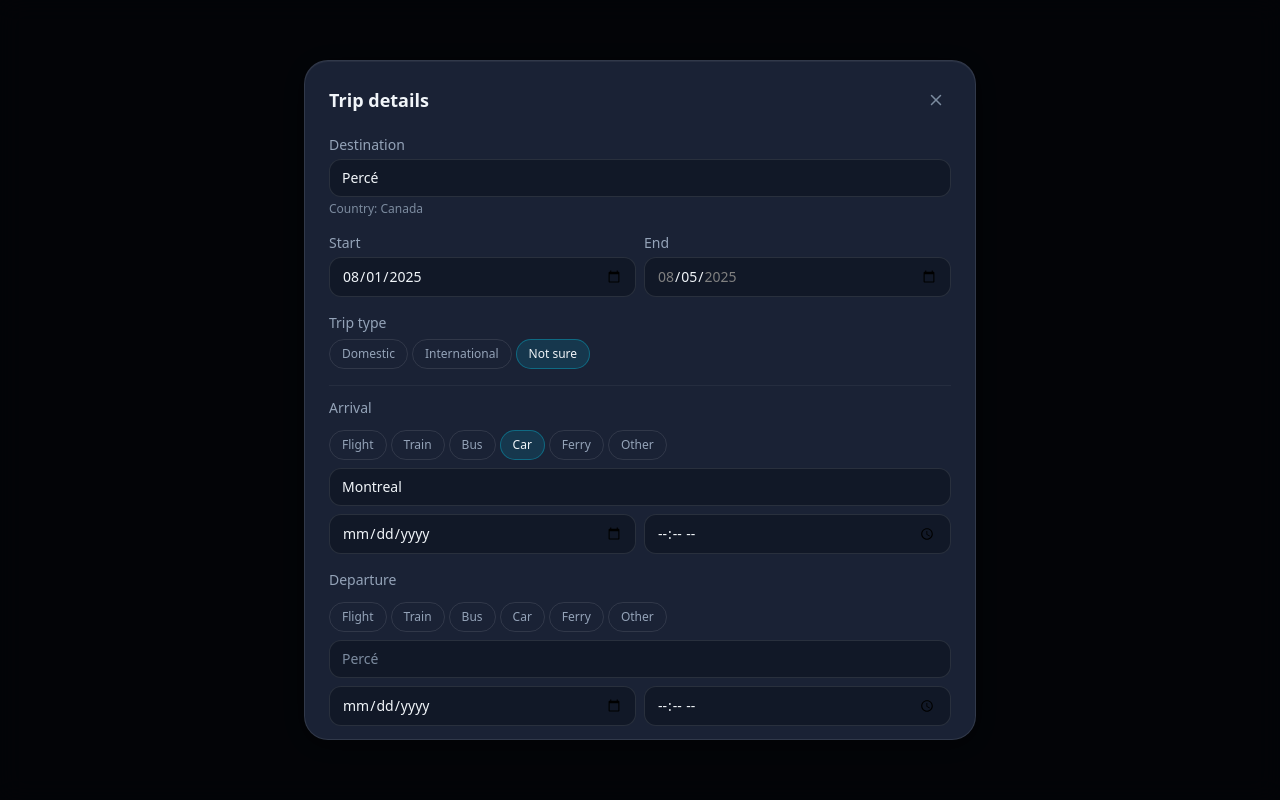
Scenario: the country cannot go stale › refuses a destination that is not one
Replace the text in the field with test id "td-destination" with "12345" at (640, 178), box x1=329 y1=159 x2=951 y2=197
(page scrolled)
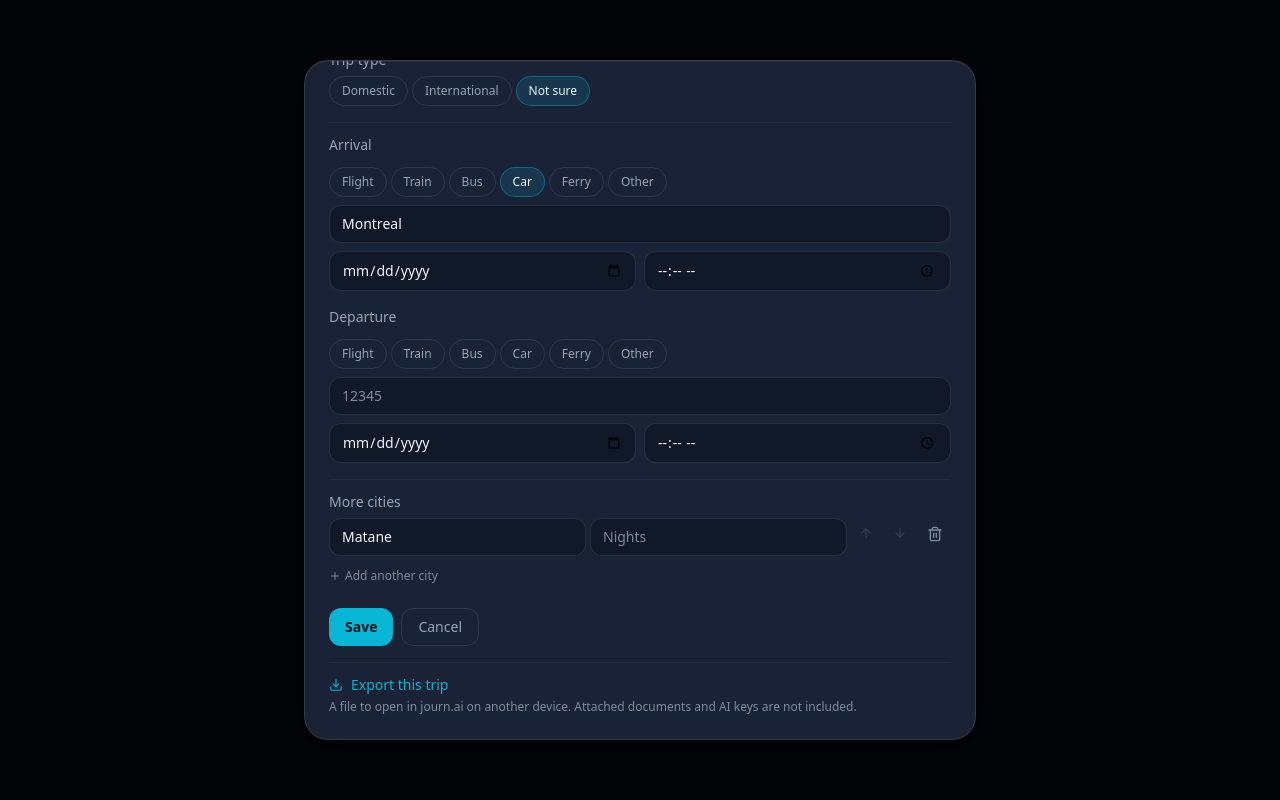
Click the button with test id "td-save".
click(361, 627)  # box x1=329 y1=608 x2=393 y2=646
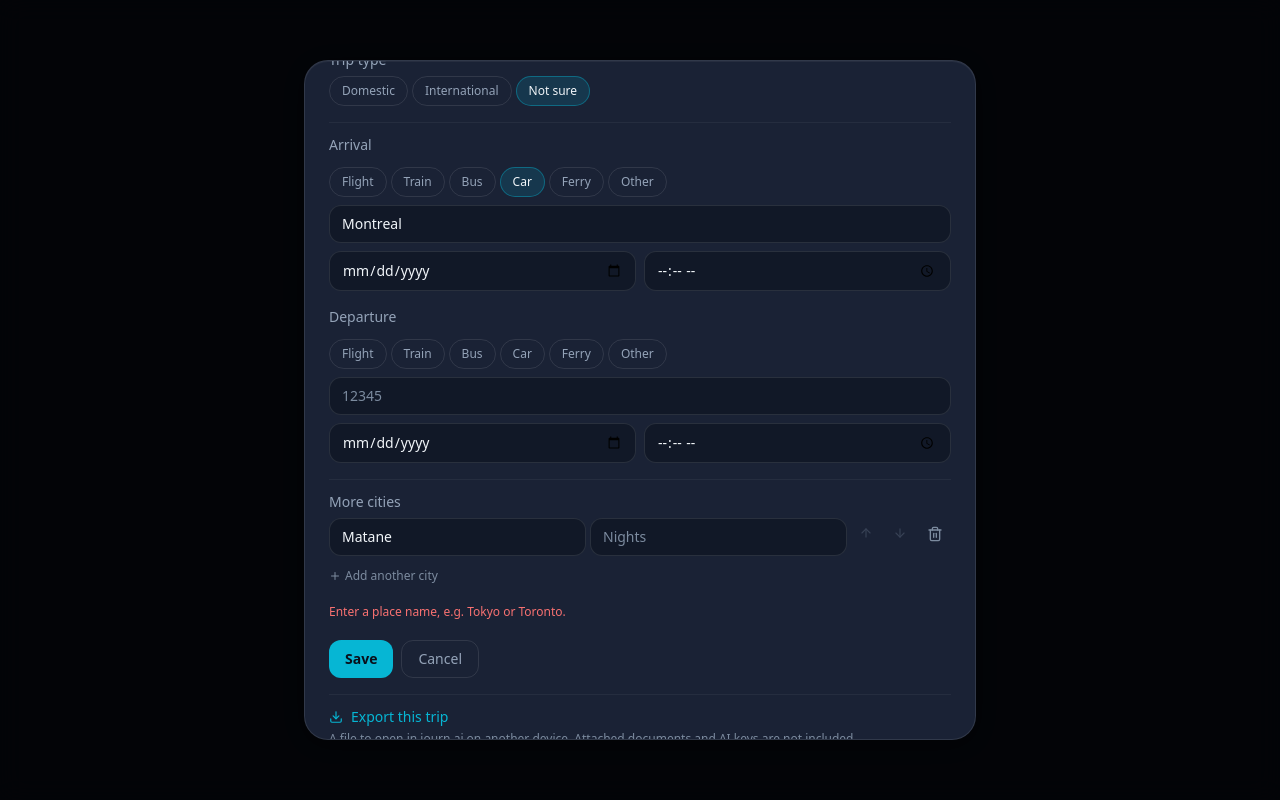
Now the message "Enter a place name, e.g. Tokyo or Toronto." is shown, box x1=329 y1=603 x2=566 y2=620
